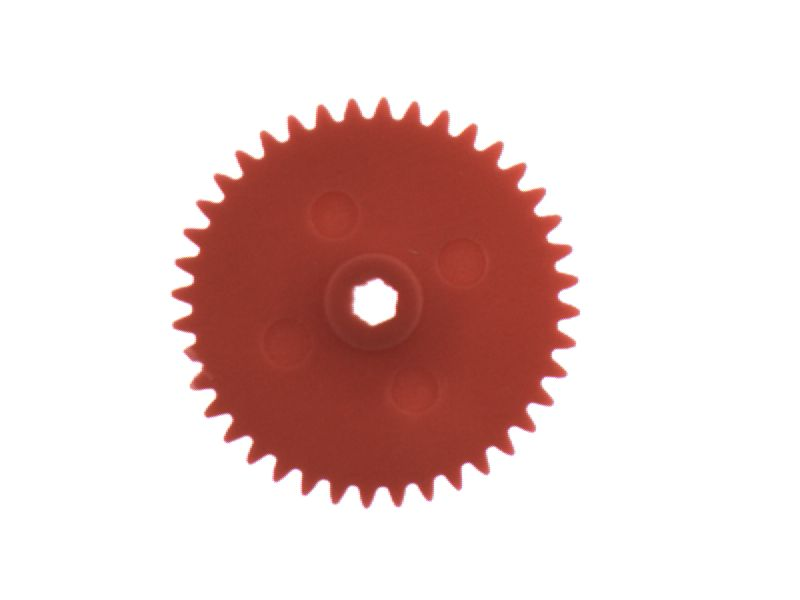defect_break: (157, 334, 211, 375)
